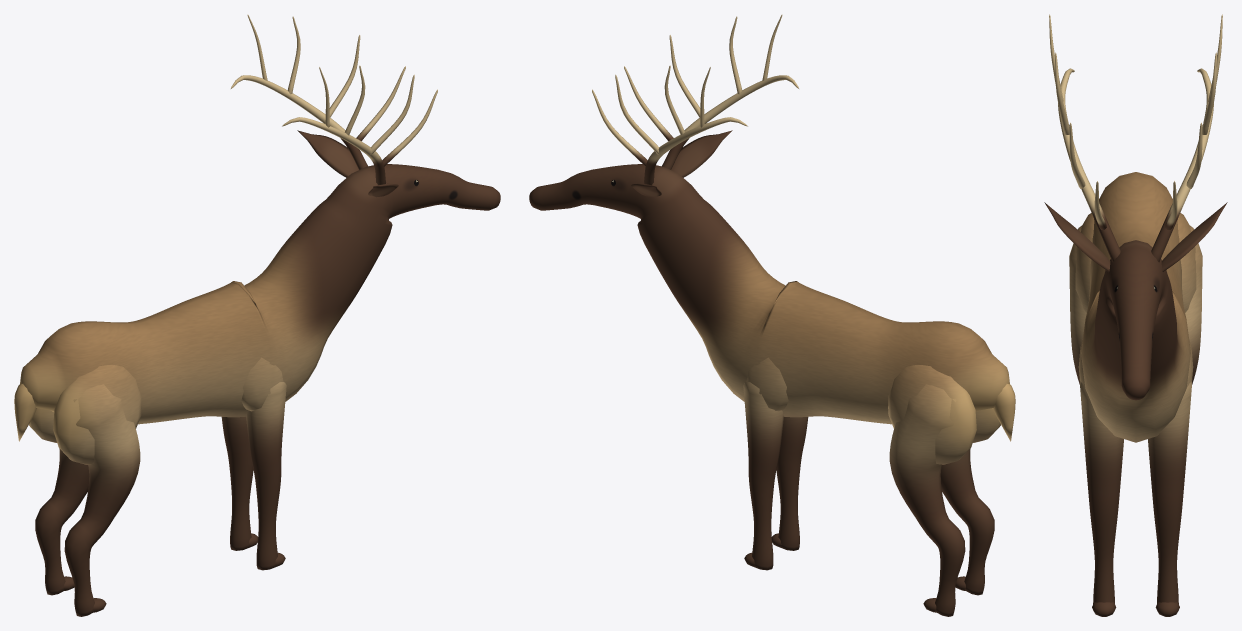
File: elk.fbx
3 views of the same model, side by side, from view 1: azimuth 30°, elevation 25°; view 2: azimuth 150°, elevation 25°; view 3: azimuth 270°, elevation 25° (orthographic). The views are drawn at different scales.
Visible parts, largest first — view 1: elk; view 2: elk; view 3: elk.
Boxes of the visible parts, x1,y1,x2,y2 form: elk: (14, 14, 500, 616); elk: (529, 14, 1015, 616); elk: (1044, 14, 1227, 616).
Size of the model in its own units: 75.13 by 275 by 277.
Materials: 1 (1 with a texture image).
